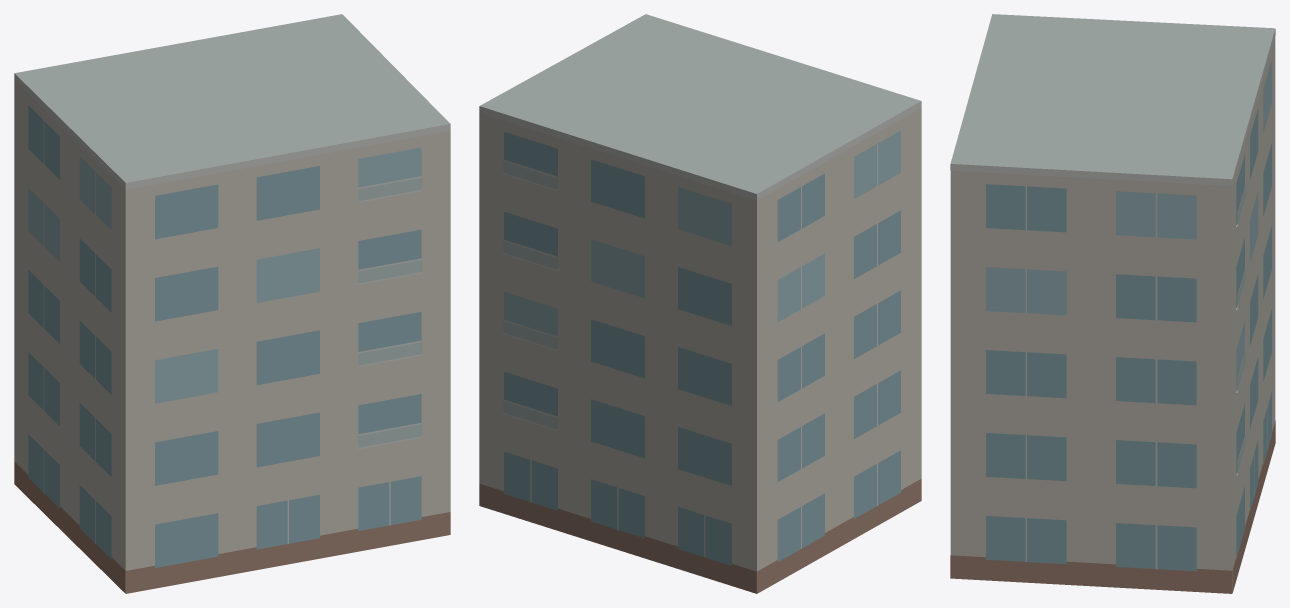
File: survey-upis-32964177.glb
The picture shows the model from 3 angles, left to right: view 1: azimuth 30°, elevation 25°; view 2: azimuth 150°, elevation 25°; view 3: azimuth 270°, elevation 25°; orthographic projection. The views are drawn at different scales.
Parts seen in each view (by area): view 1: survey-upis-32964177.tmp; view 2: survey-upis-32964177.tmp; view 3: survey-upis-32964177.tmp.
Part boxes in pixels (x1=…): survey-upis-32964177.tmp: x1=14, y1=14, x2=450, y2=593; survey-upis-32964177.tmp: x1=479, y1=14, x2=921, y2=593; survey-upis-32964177.tmp: x1=950, y1=14, x2=1275, y2=593.
Size of the model in its own units: 12.61 by 14.75 by 10.49.
